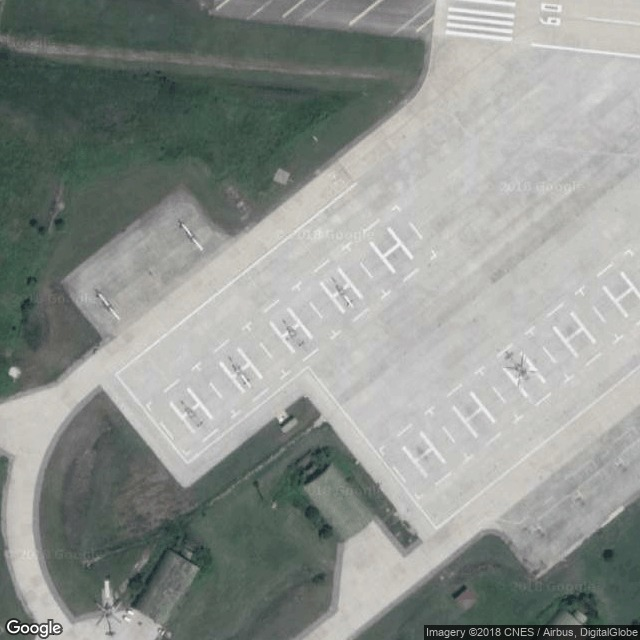heliport: (359, 225, 417, 278), (444, 393, 500, 445), (393, 429, 448, 481), (310, 270, 363, 319), (163, 390, 216, 434), (265, 313, 318, 357), (213, 350, 264, 394)
